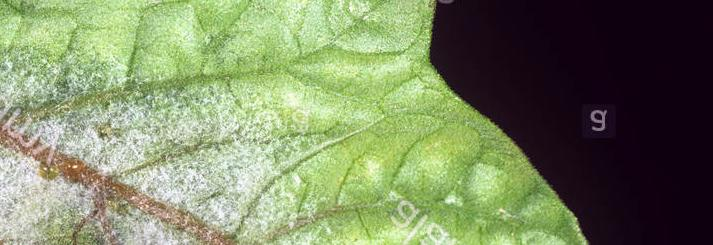Tomato leaf late blight: (0, 0, 691, 245)
